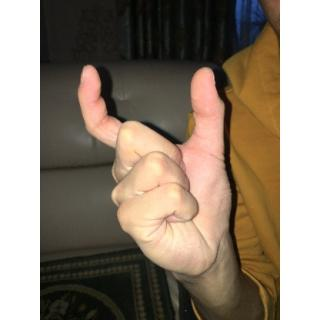NOON: (75, 59, 244, 286)
